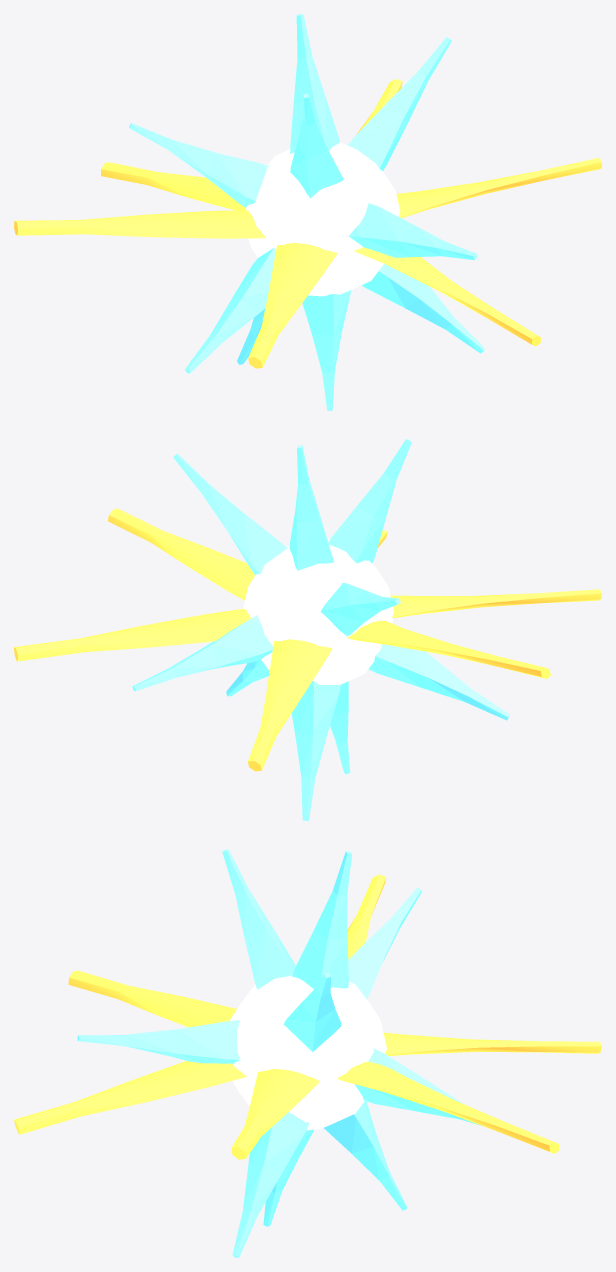
Rendered from fx_burst_s.glb.
The picture shows the model from 3 angles, top to bottom: view 1: azimuth 30°, elevation 25°; view 2: azimuth 150°, elevation 25°; view 3: azimuth 270°, elevation 25°; orthographic projection. The views are drawn at different scales.
Visible parts, largest first — view 1: radial-impact-burst-small; view 2: radial-impact-burst-small; view 3: radial-impact-burst-small.
Part boxes in pixels (<box>): radial-impact-burst-small: <box>14,14,601,410</box>; radial-impact-burst-small: <box>14,439,601,820</box>; radial-impact-burst-small: <box>14,849,601,1257</box>.
Bounding box in the file's own units: 0.6849 × 0.4598 × 0.6471.
